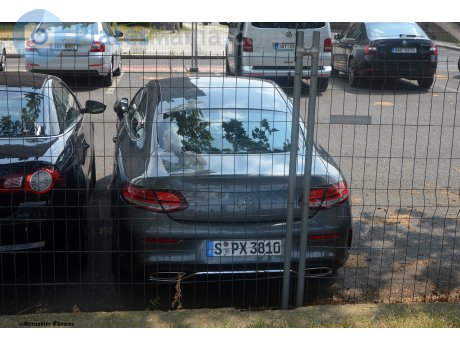License Plates: (211, 241, 281, 252)
